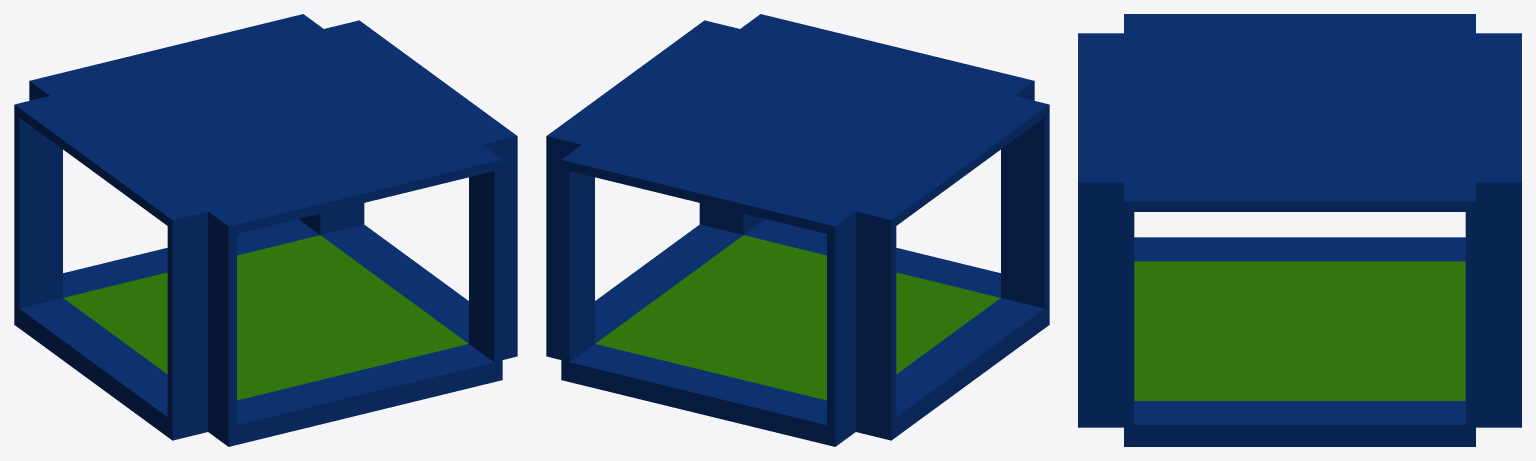
The model's file is vb_hallway_fourway.fbx.
3 renders of one model, left to right at view 1: azimuth 30°, elevation 25°; view 2: azimuth 150°, elevation 25°; view 3: azimuth 270°, elevation 25°, orthographic. The views are drawn at different scales.
Parts seen in each view (by area): view 1: hallway_fourway; view 2: hallway_fourway; view 3: hallway_fourway.
Part boxes in pixels (x1=…): hallway_fourway: x1=14, y1=14, x2=517, y2=446; hallway_fourway: x1=546, y1=14, x2=1049, y2=446; hallway_fourway: x1=1078, y1=14, x2=1521, y2=446.
Bounding box in the file's own units: 10.08 × 6.16 × 10.08.
